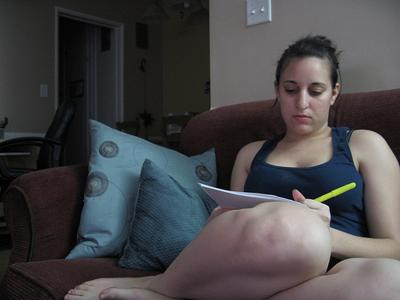person: (62, 35, 400, 299)
